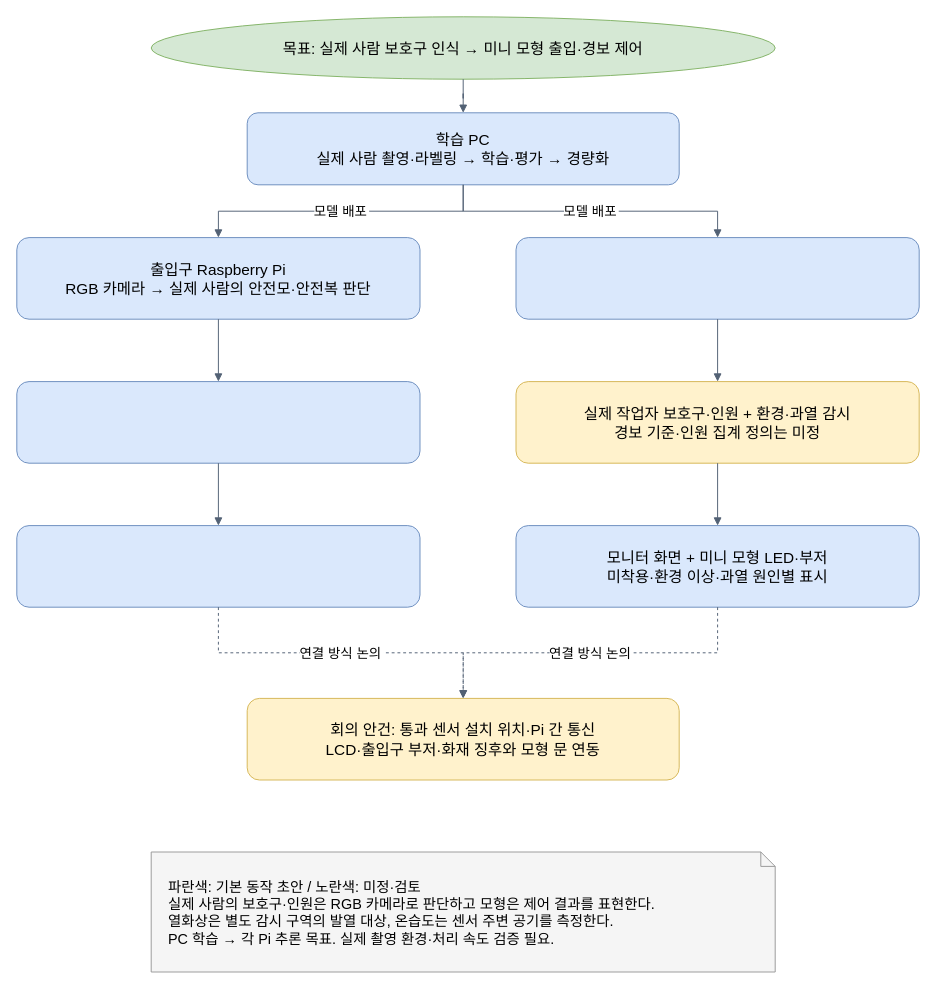
Image size: 936x989. Some labels were removed from this diagram. The box of each missing label's shape, as (x1, y1, x2, y2) in pixels:
같은 사람의 착용 연속 확인 → 개방 승인 선택한 통과 신호 확인 → 지연 → 닫힘 조건 확인: (16, 381, 420, 463)
미니 모형 바리케이드 모터·출입구 LED 실제 사람용 문이 아닌 모형의 동작을 시연: (16, 525, 420, 607)
현장 Raspberry Pi 실제 사람 RGB 영상 + 공기 온습도 + 열화상: (515, 237, 919, 319)
